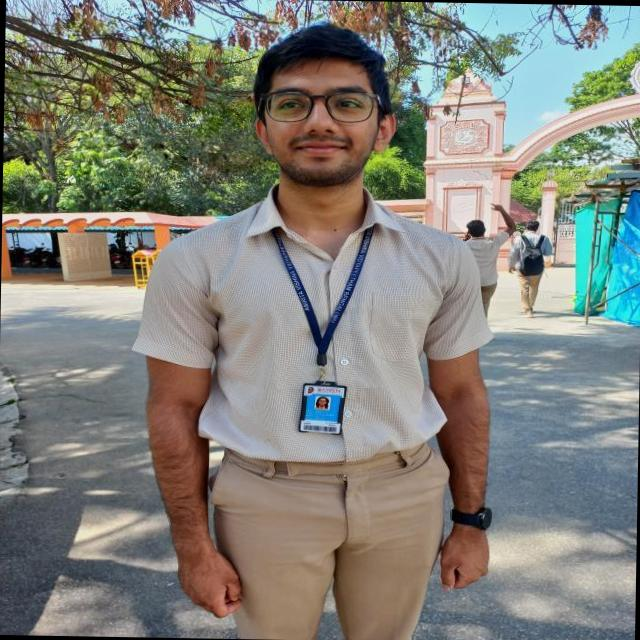id_card: (259, 226, 372, 434)
